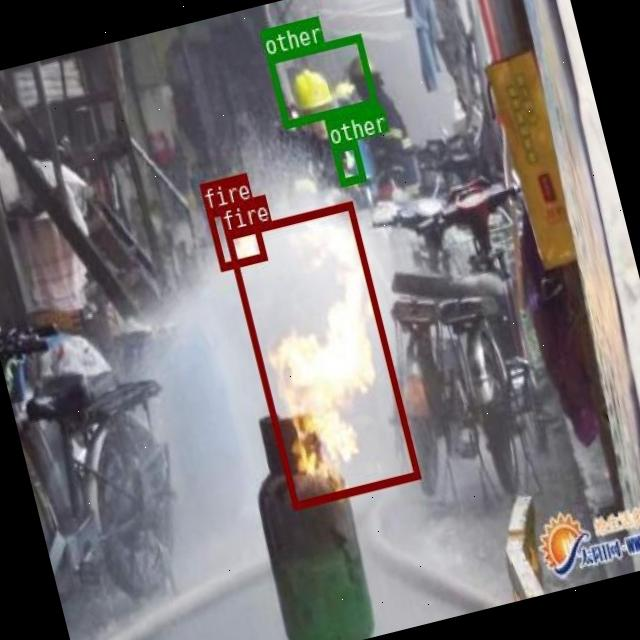fire: (223, 200, 420, 507), (206, 199, 266, 270)
